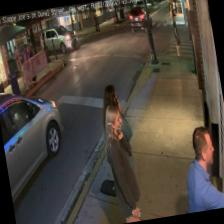person: (96, 82, 144, 220), (98, 103, 144, 223), (176, 122, 224, 213), (16, 43, 34, 81), (171, 13, 183, 57), (26, 46, 37, 81)
